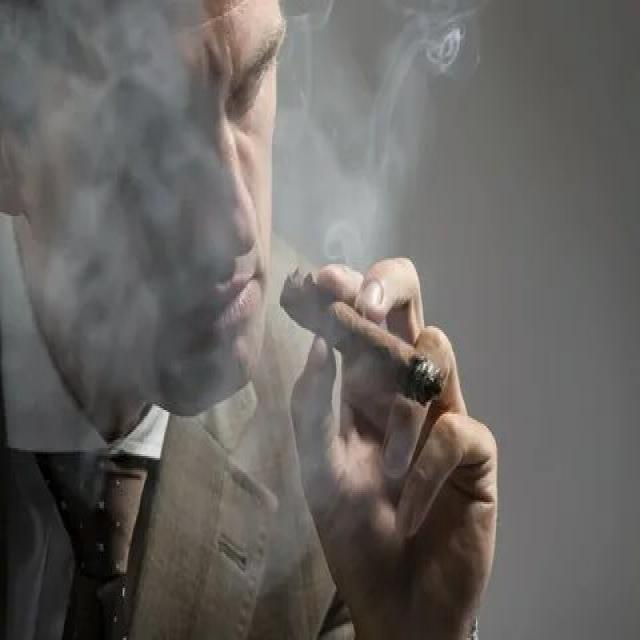smoke: (281, 262, 444, 408)
